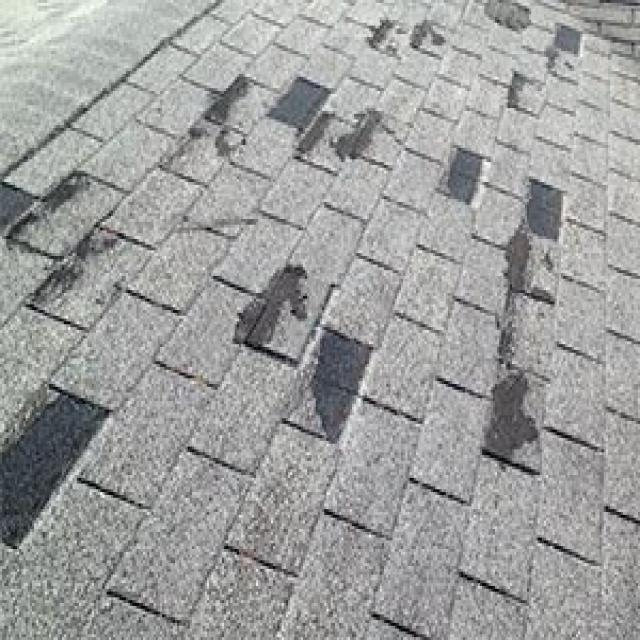damage: (236, 248, 381, 452), (480, 168, 567, 464), (0, 161, 133, 313), (0, 384, 111, 554), (172, 63, 261, 168), (258, 70, 342, 165), (364, 7, 460, 74), (432, 135, 492, 210), (334, 100, 390, 173), (539, 7, 590, 80), (501, 66, 548, 115), (481, 0, 540, 37)
